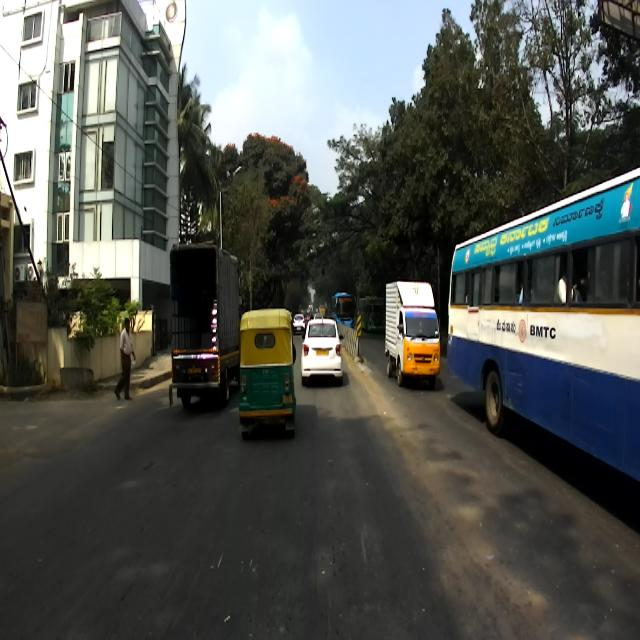auto ahead at: (240, 314, 296, 431)
car ahead at: (303, 317, 345, 380)
person ahead at: (114, 308, 138, 408)
truck ahead at: (162, 239, 239, 414), (383, 276, 443, 393)
